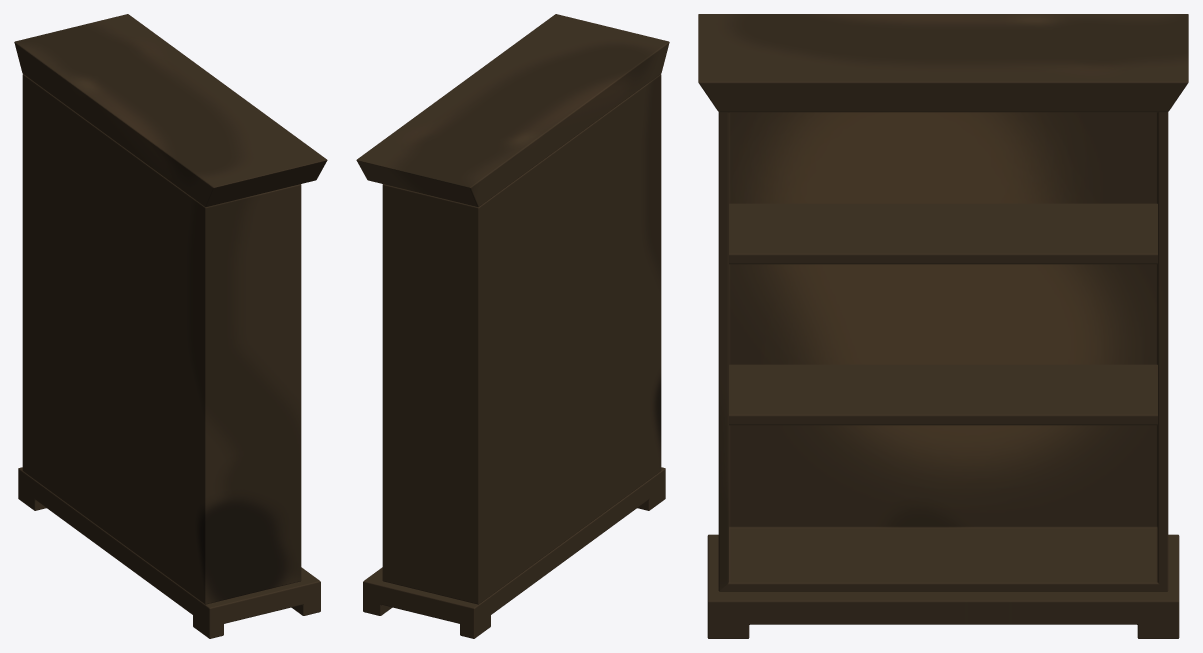
File: shelf_small.obj
The picture shows the model from 3 angles, left to right: view 1: azimuth 30°, elevation 25°; view 2: azimuth 150°, elevation 25°; view 3: azimuth 270°, elevation 25°; orthographic projection. The views are drawn at different scales.
Parts seen in each view (by area): view 1: shelf_small_Cube.001; view 2: shelf_small_Cube.001; view 3: shelf_small_Cube.001.
Part boxes in pixels (box(x1,y1,x2,y2)): shelf_small_Cube.001: box(14, 14, 327, 638); shelf_small_Cube.001: box(356, 14, 669, 638); shelf_small_Cube.001: box(698, 14, 1188, 638).
Bounding box in the file's own units: 0.3796 × 1.44 × 1.15.
1 material, 1 textured.
